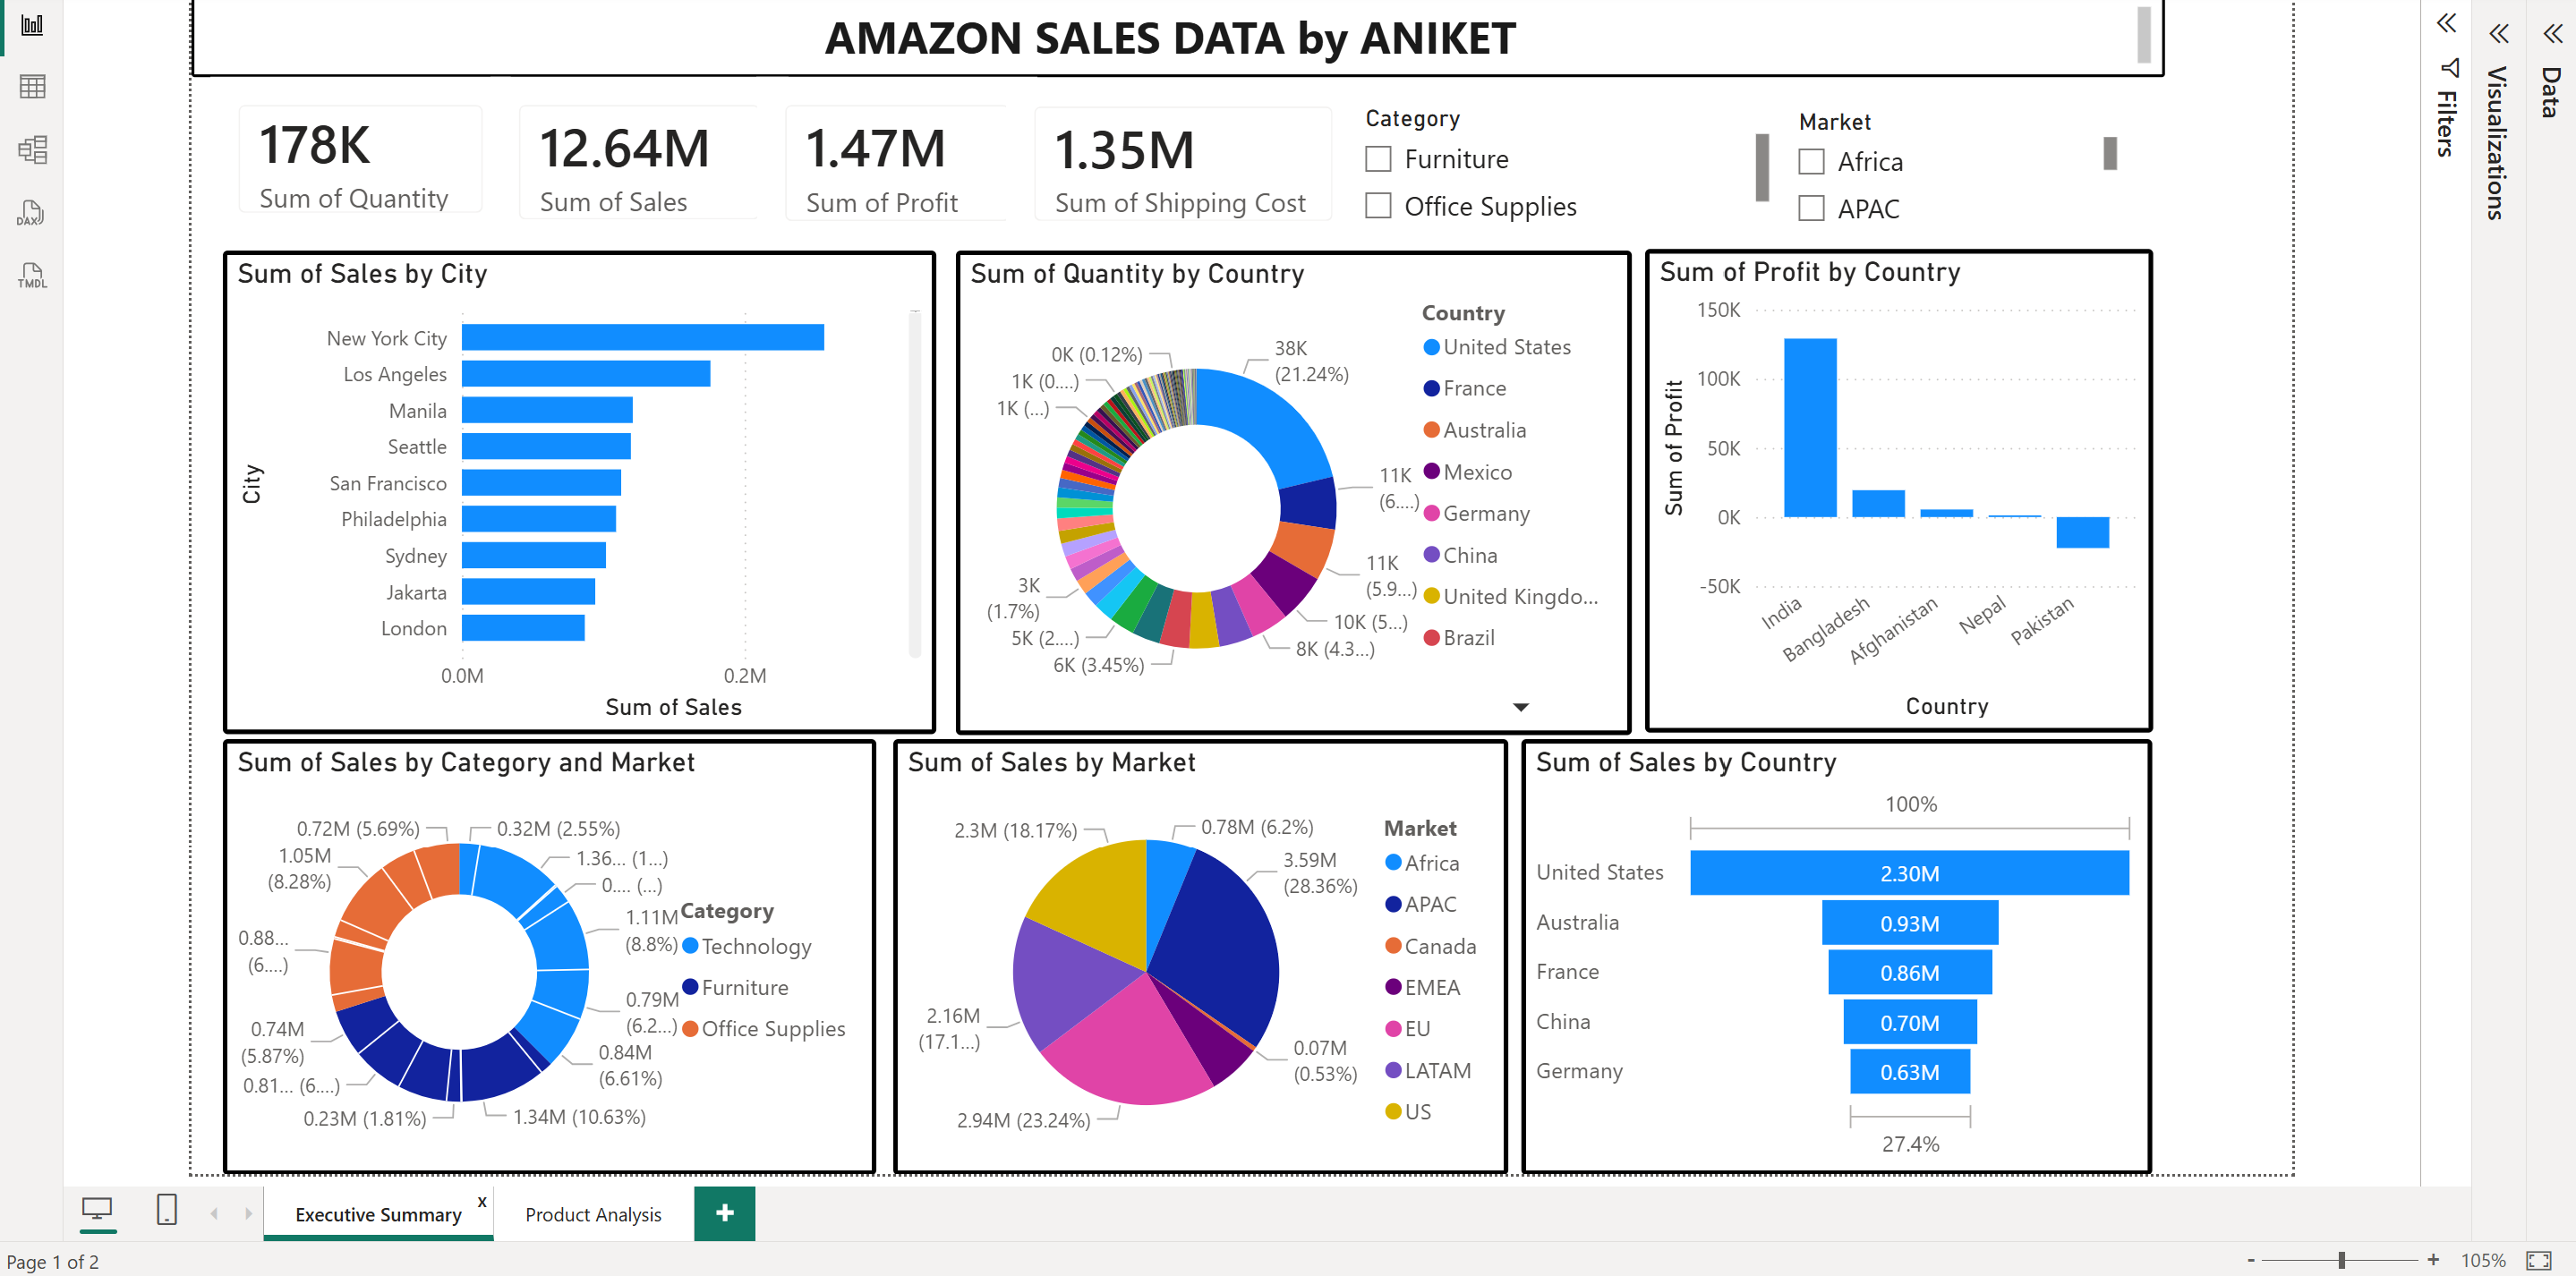

The page's visual inventory and layout, read from the dashboard file:
{"tool":"powerbi","page":{"name":"Executive Summary","canvas":[1280,720],"ordinal":0},"visuals":[{"type":"donutChart","fields":{"Category":["Orders.Category"],"Y":["Sum(Orders.Sales)"],"Series":["Orders.Market"]},"box":[19,454,398,266],"z":0},{"type":"pieChart","fields":{"Series":["Orders.Market"],"Y":["Sum(Orders.Sales)"]},"box":[428,454,375,266],"z":1000},{"type":"donutChart","fields":{"Category":["Orders.Country"],"Y":["Sum(Orders.Quantity)"]},"box":[465.6,156.7,412.2,295.6],"z":2000},{"type":"funnel","fields":{"Category":["Orders.Country"],"Y":["Sum(Orders.Sales)"]},"box":[811,454,384,266],"z":3000},{"type":"columnChart","fields":{"Category":["Orders.Country"],"Y":["Sum(Orders.Profit)"]},"box":[886,156,309,295],"z":4000},{"type":"textbox","box":[0,0,1202,51],"z":5000},{"type":"clusteredBarChart","fields":{"Y":["Sum(Orders.Sales)"],"Category":["Orders.City"]},"box":[19,157,435,295],"z":6000},{"type":"cardVisual","fields":{"Data":["Sum(Orders.Quantity)"]},"box":[11,51,183,100],"z":7000},{"type":"cardVisual","fields":{"Data":["Sum(Orders.Sales)"]},"box":[182,51,181,104],"z":8000},{"type":"cardVisual","fields":{"Data":["Sum(Orders.Profit)"]},"box":[345,51,171,105],"z":9000},{"type":"cardVisual","fields":{"Data":["Sum(Orders.Shipping Cost)"]},"box":[496.7,51.1,216.7,104.4],"z":10000},{"type":"slicer","fields":{"Values":["Orders.Category"]},"box":[703,62,263,89],"z":11000},{"type":"slicer","fields":{"Values":["Orders.Market"]},"box":[966,64,212,84],"z":12000}]}

Visuals, with their boxes on the page's 1280x720 design canvas (x1, y1, x2, y2). These are canvas units, not pixel positions in the 2576x1276 screenshot, which may show the page scaled, cropped or inside an application window:
donutChart - Orders.Category x Sum(Orders.Sales): select_region(19, 454, 417, 720)
pieChart - Orders.Market x Sum(Orders.Sales): select_region(428, 454, 803, 720)
donutChart - Orders.Country x Sum(Orders.Quantity): select_region(466, 157, 878, 452)
funnel - Orders.Country x Sum(Orders.Sales): select_region(811, 454, 1195, 720)
columnChart - Orders.Country x Sum(Orders.Profit): select_region(886, 156, 1195, 451)
textbox: select_region(0, 0, 1202, 51)
clusteredBarChart - Sum(Orders.Sales) x Orders.City: select_region(19, 157, 454, 452)
cardVisual - Sum(Orders.Quantity): select_region(11, 51, 194, 151)
cardVisual - Sum(Orders.Sales): select_region(182, 51, 363, 155)
cardVisual - Sum(Orders.Profit): select_region(345, 51, 516, 156)
cardVisual - Sum(Orders.Shipping Cost): select_region(497, 51, 713, 156)
slicer - Orders.Category: select_region(703, 62, 966, 151)
slicer - Orders.Market: select_region(966, 64, 1178, 148)
